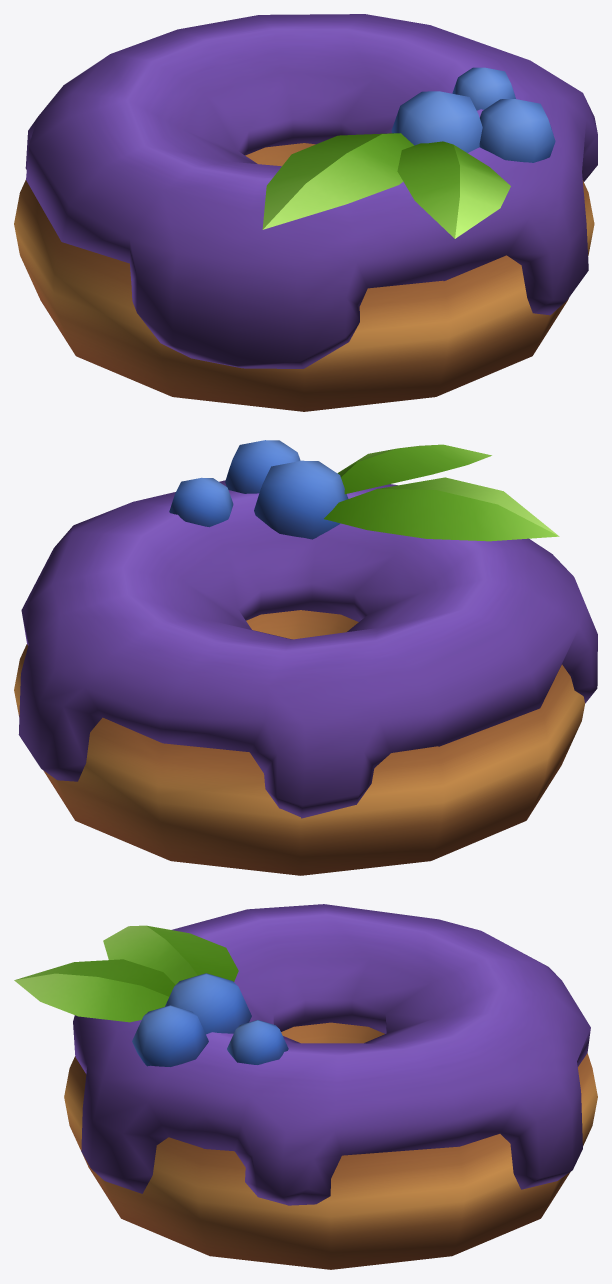
The model's file is m_Donut15.fbx.
The picture shows the model from 3 angles, top to bottom: view 1: azimuth 30°, elevation 25°; view 2: azimuth 150°, elevation 25°; view 3: azimuth 270°, elevation 25°; orthographic projection. The views are drawn at different scales.
Visible parts, largest first — view 1: m_Donut15; view 2: m_Donut15; view 3: m_Donut15.
Part boxes in pixels (x1,y1,x2,y2): m_Donut15: (14, 14, 597, 411); m_Donut15: (14, 440, 597, 875); m_Donut15: (14, 904, 597, 1269).
Size of the model in its own units: 12.47 by 6.34 by 13.3.
